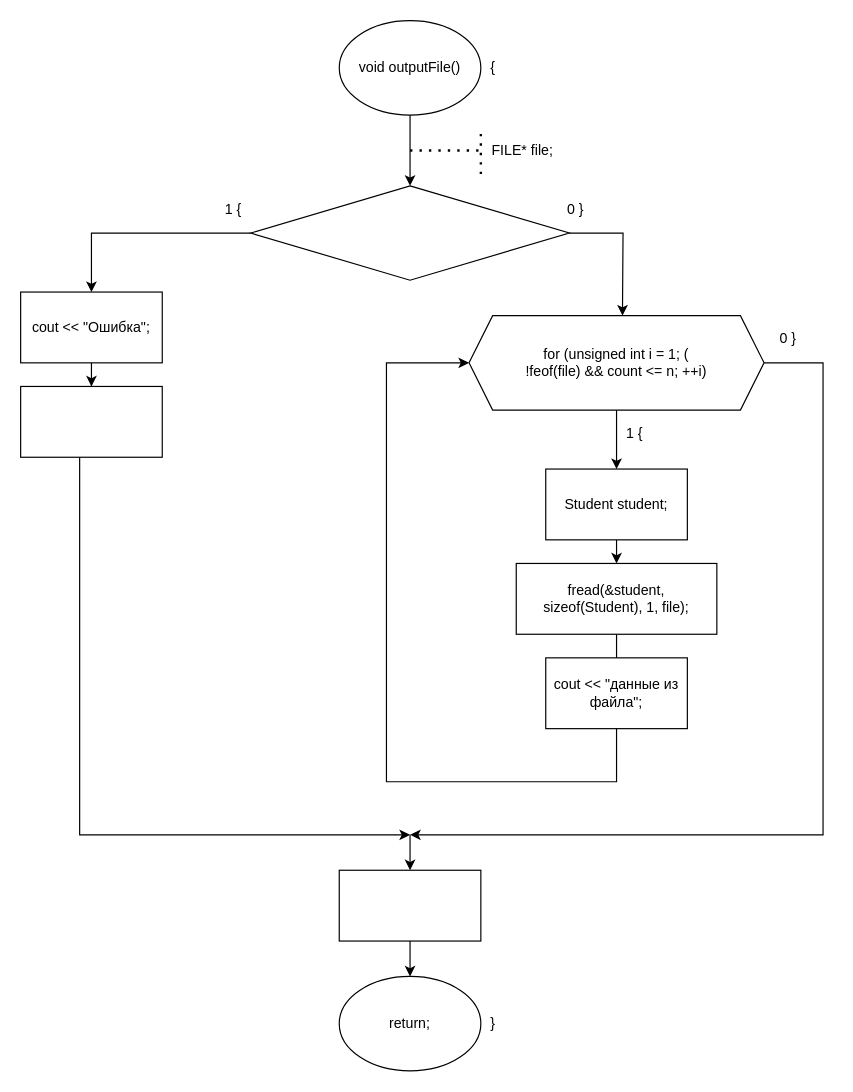
The diagram is 853 pixels wide and 1092 high, and some of its shapes have lost their labels. The centre of each missing label's shape, as x and y in pixels:
exit(2);: pixel 90 421
fclose(file);: pixel 409 905
if ((file = fopen(filename, "rb")) == NULL): pixel 409 232
